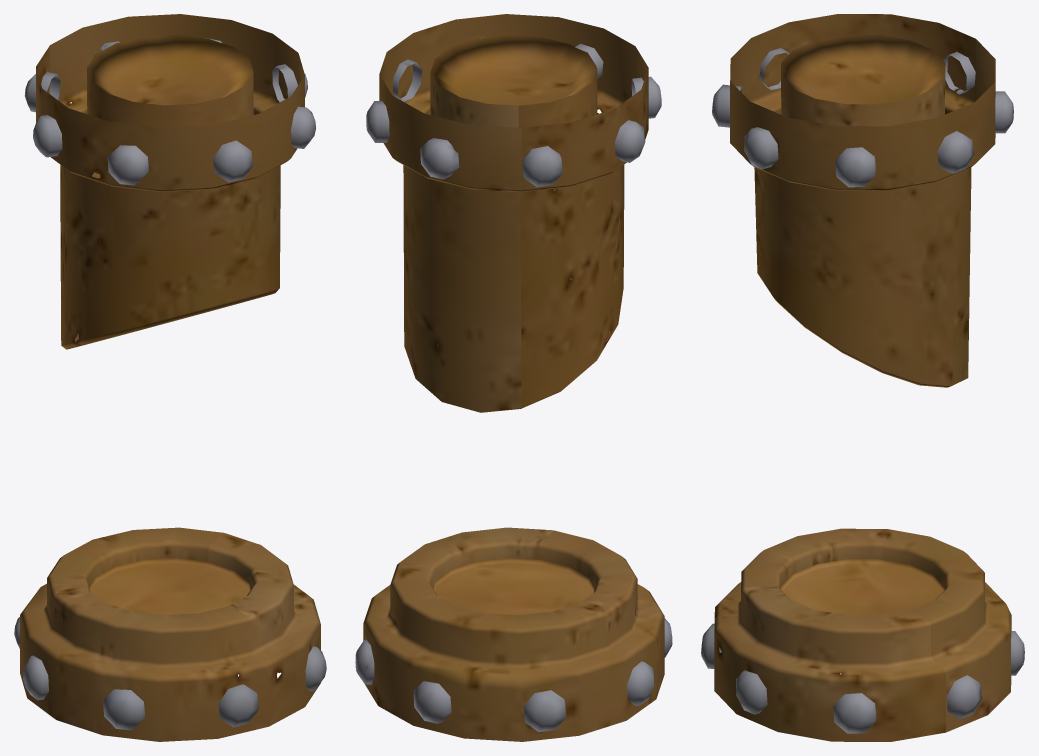
3 views of the same model, side by side, from view 1: azimuth 30°, elevation 25°; view 2: azimuth 150°, elevation 25°; view 3: azimuth 270°, elevation 25° (orthographic).
Visible parts, largest first — view 1: SM_Lightning_Conductor_LOD0; view 2: SM_Lightning_Conductor_LOD0; view 3: SM_Lightning_Conductor_LOD0.
Boxes of the visible parts, box(x1,y1,x2,y2) form: SM_Lightning_Conductor_LOD0: box(14, 14, 326, 741); SM_Lightning_Conductor_LOD0: box(355, 14, 672, 741); SM_Lightning_Conductor_LOD0: box(701, 14, 1024, 741).
Bounding box in the file's own units: 0.2286 × 0.4748 × 0.2286.
2 materials, 2 textured.
